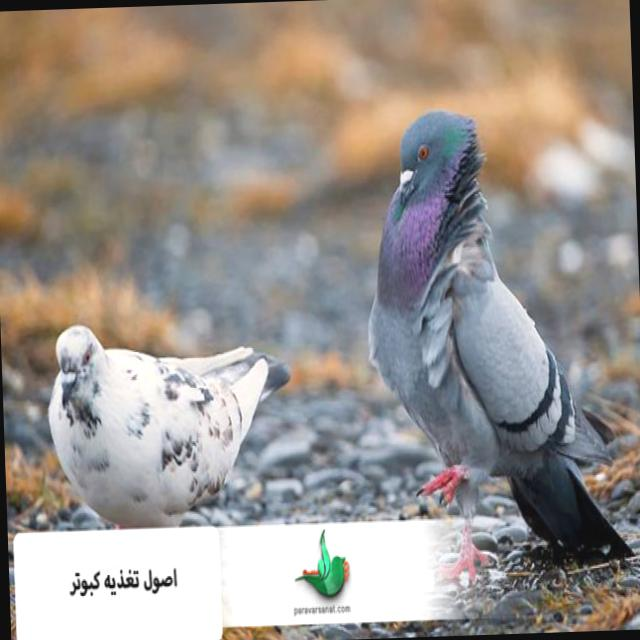bird: (358, 97, 634, 571), (40, 302, 294, 526)
